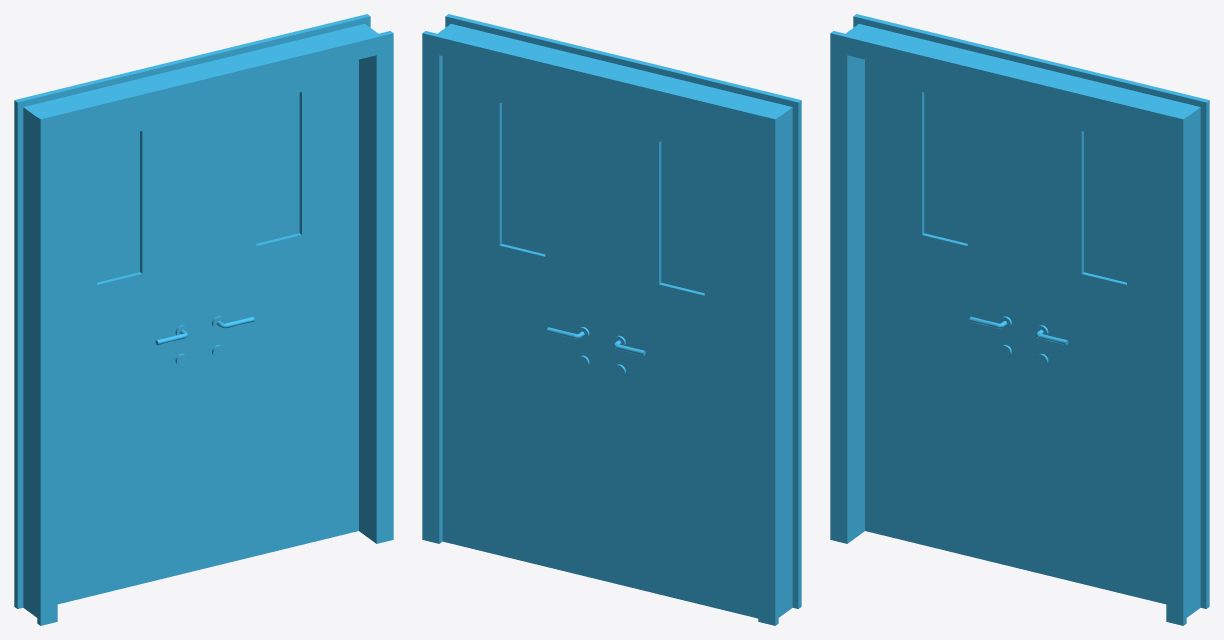
3 views of the same model, side by side, from view 1: azimuth 30°, elevation 25°; view 2: azimuth 150°, elevation 25°; view 3: azimuth 330°, elevation 25° (orthographic).
Size of the model in its own units: 2325 by 3188 by 343.
